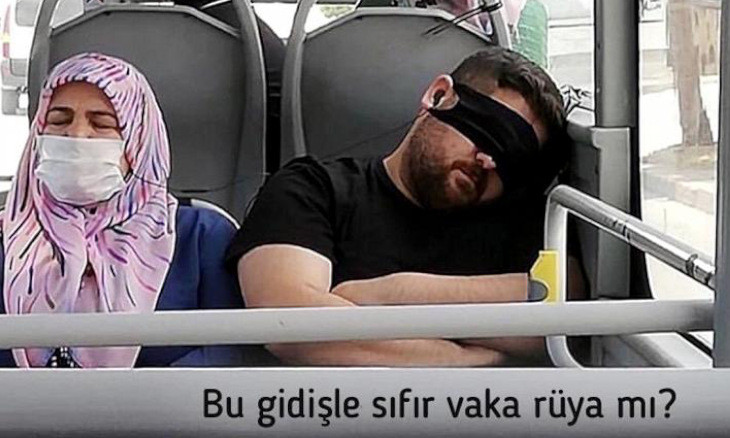with_incorrect_mask: (424, 73, 552, 212), (38, 98, 132, 206)
